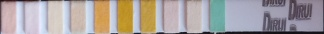color 1: (2, 3, 14, 32)
color 10: (211, 1, 223, 29)
color 2: (26, 3, 38, 32)
color 3: (49, 2, 61, 34)
color 4: (72, 2, 84, 34)
color 5: (96, 2, 108, 34)
color 6: (118, 2, 131, 33)
color 7: (141, 1, 154, 32)
color 8: (164, 2, 177, 31)
color 9: (188, 2, 200, 31)
